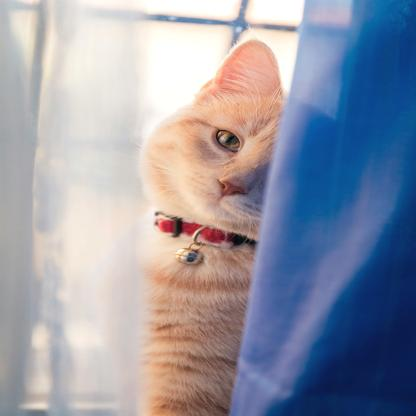cat: (135, 36, 290, 416)
